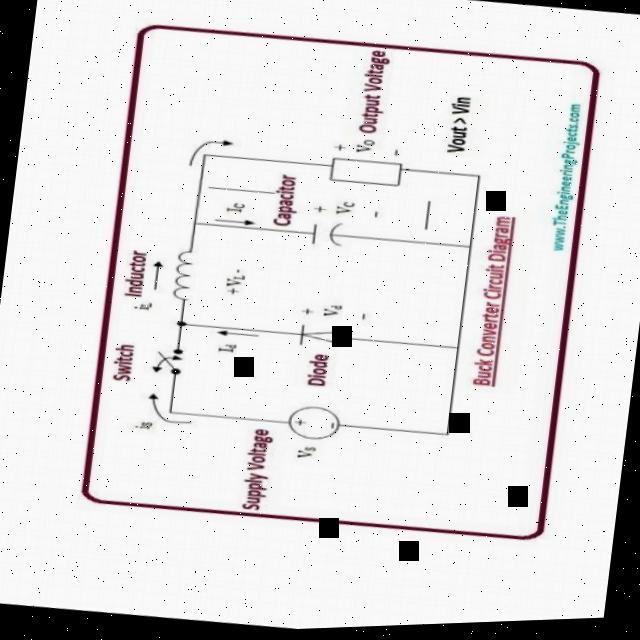capacitor: (293, 215, 359, 257)
diode: (280, 316, 353, 359)
inductor: (157, 238, 224, 314)
node: (169, 315, 192, 331)
resistor: (322, 150, 414, 197)
source: (279, 395, 352, 451)
switch: (140, 340, 200, 384)
